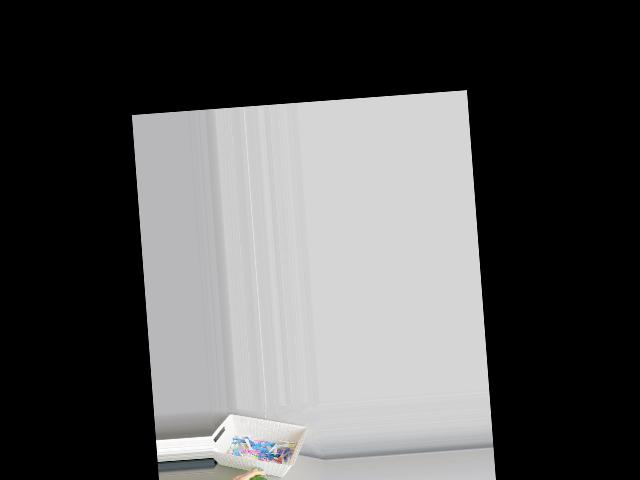beer: (247, 467, 269, 480)
